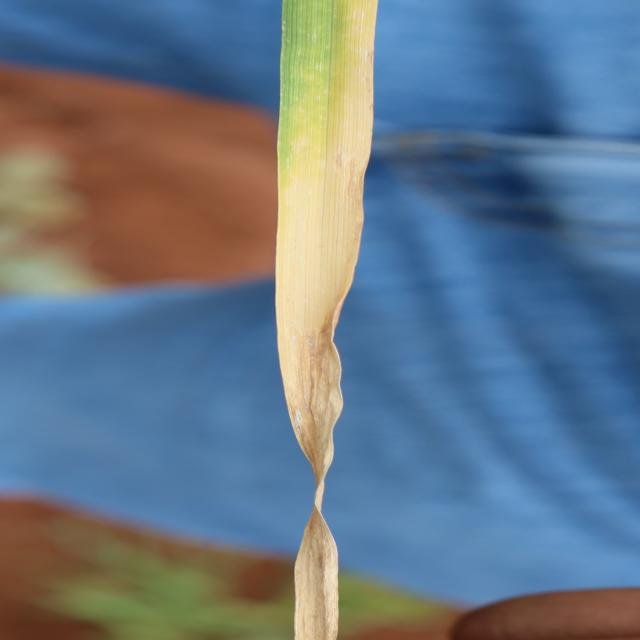Septoria: (272, 1, 378, 638)
